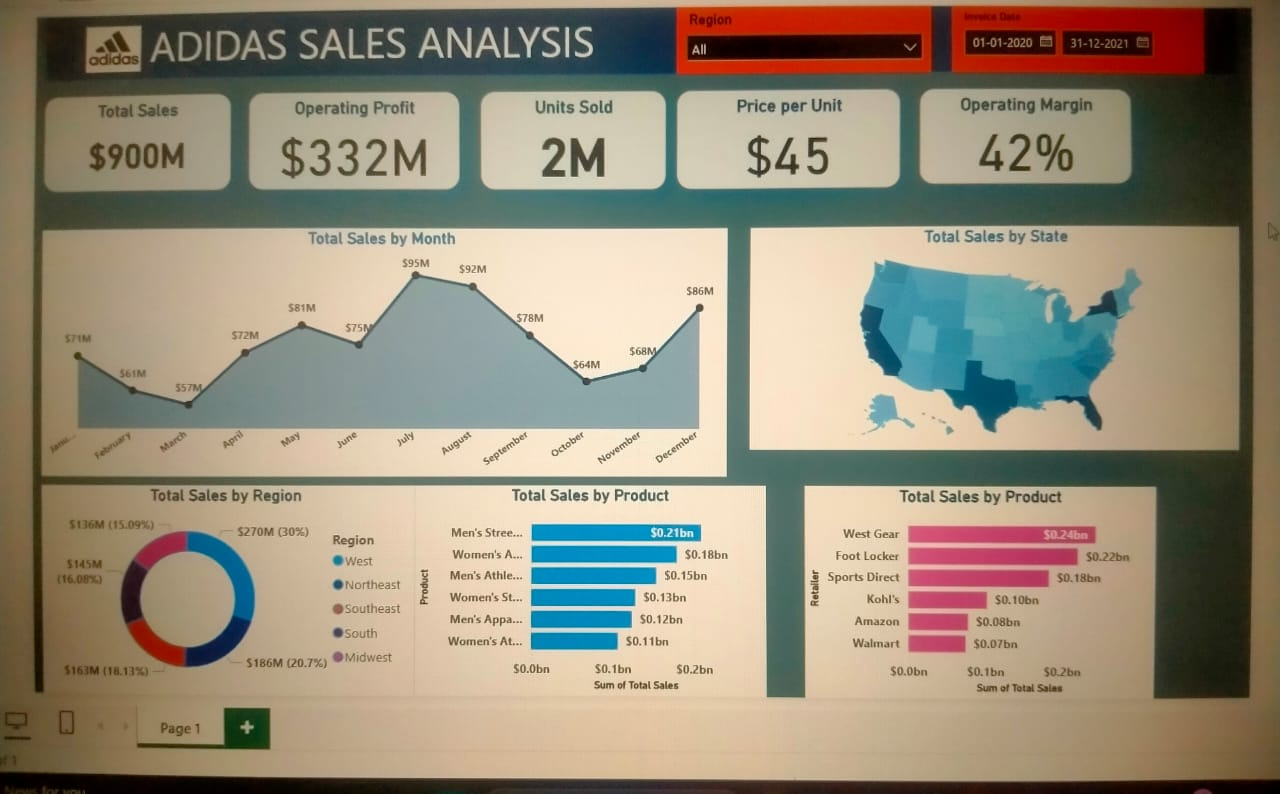

This screenshot's page, from the dashboard's own definition file:
{"tool":"powerbi","page":{"name":"Page 1","canvas":[1280,720],"ordinal":0},"visuals":[{"type":"shape","box":[10,0,1255,70],"z":0},{"type":"textbox","box":[119.8,0,494,69.7],"z":1000},{"type":"actionButton","box":[0,0,100,40],"z":2000},{"type":"card","title":"Total Sales","fields":{"Values":["Sum(Data Sales Adidas.Total Sales)"]},"box":[9.8,86.8,204.2,102.7],"z":3000},{"type":"card","title":"Units Sold","fields":{"Values":["Sum(Data Sales Adidas.Units Sold)"]},"box":[475.7,86.8,194.4,102.7],"z":4000},{"type":"card","title":"Price per Unit","fields":{"Values":["Avg(Data Sales Adidas.Price per Unit)"]},"box":[681.1,86.8,232.3,102.7],"z":5000},{"type":"card","title":"Operating Margin","fields":{"Values":["Avg(Data Sales Adidas.Operating Margin)"]},"box":[933,86.8,220.1,99],"z":6000},{"type":"card","title":"Operating Profit","fields":{"Values":["Sum(Data Sales Adidas.Operating Profit)"]},"box":[232.3,86.8,222.6,102.7],"z":7000},{"type":"areaChart","title":"Total Sales by Month","fields":{"Category":["Data Sales Adidas.Invoice Date.Variation.Date Hierarchy.Month"],"Y":["Sum(Data Sales Adidas.Total Sales)"]},"box":[9.8,228.7,725.1,260.5],"z":8000},{"type":"shapeMap","title":"Total Sales by State","fields":{"Category":["Data Sales Adidas.State"],"Value":["Sum(Data Sales Adidas.Total Sales)"]},"box":[758.3,228.3,506.7,231.7],"z":9000},{"type":"donutChart","title":"Total Sales by Region","fields":{"Category":["Data Sales Adidas.Region"],"Y":["Sum(Data Sales Adidas.Total Sales)"]},"box":[9.8,498.9,396.2,221.3],"z":9001},{"type":"barChart","title":"Total Sales by Product","fields":{"Category":["Data Sales Adidas.Product"],"Y":["Sum(Data Sales Adidas.Total Sales)"]},"box":[406,498.9,369.3,221.3],"z":9002},{"type":"barChart","title":"Total Sales by Product","fields":{"Y":["Sum(Data Sales Adidas.Total Sales)"],"Category":["Data Sales Adidas.Retailer"]},"box":[815.6,498.9,362,221.3],"z":9003},{"type":"slicer","fields":{"Values":["Data Sales Adidas.Region"]},"box":[681.1,0,264.1,69.7],"z":9004},{"type":"slicer","fields":{"Values":["Data Sales Adidas.Invoice Date"]},"box":[966,0,264.1,69.7],"z":9005},{"type":"image","box":[50.1,2.4,69.7,67.3],"z":9006}]}

Visuals, with their boxes in screenshot pixels (x1, y1, x2, y2):
shape: select_region(36, 7, 1230, 73)
textbox: select_region(141, 7, 611, 73)
actionButton: select_region(27, 7, 122, 45)
"Total Sales" card: select_region(36, 89, 230, 187)
"Units Sold" card: select_region(479, 89, 664, 187)
"Price per Unit" card: select_region(675, 89, 896, 187)
"Operating Margin" card: select_region(914, 89, 1124, 183)
"Operating Profit" card: select_region(248, 89, 459, 187)
"Total Sales by Month" areaChart: select_region(36, 224, 726, 472)
"Total Sales by State" shapeMap: select_region(748, 224, 1230, 444)
"Total Sales by Region" donutChart: select_region(36, 481, 413, 692)
"Total Sales by Product" barChart: select_region(413, 481, 764, 692)
"Total Sales by Product" barChart: select_region(802, 481, 1147, 692)
slicer - Data Sales Adidas.Region: select_region(675, 7, 926, 73)
slicer - Data Sales Adidas.Invoice Date: select_region(946, 7, 1197, 73)
image: select_region(74, 9, 141, 73)
